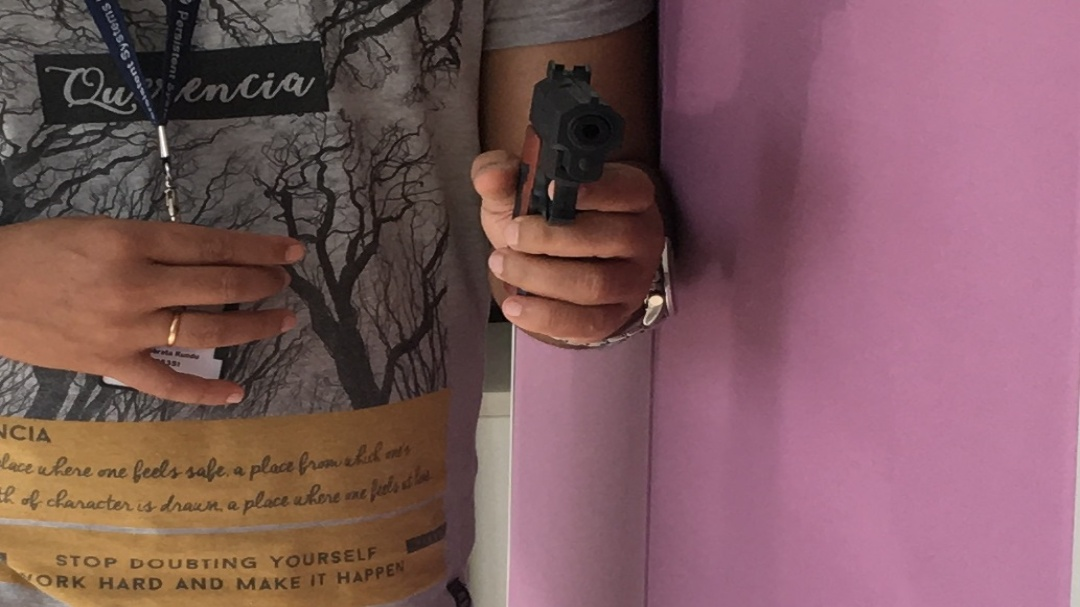gun: (515, 58, 625, 228)
